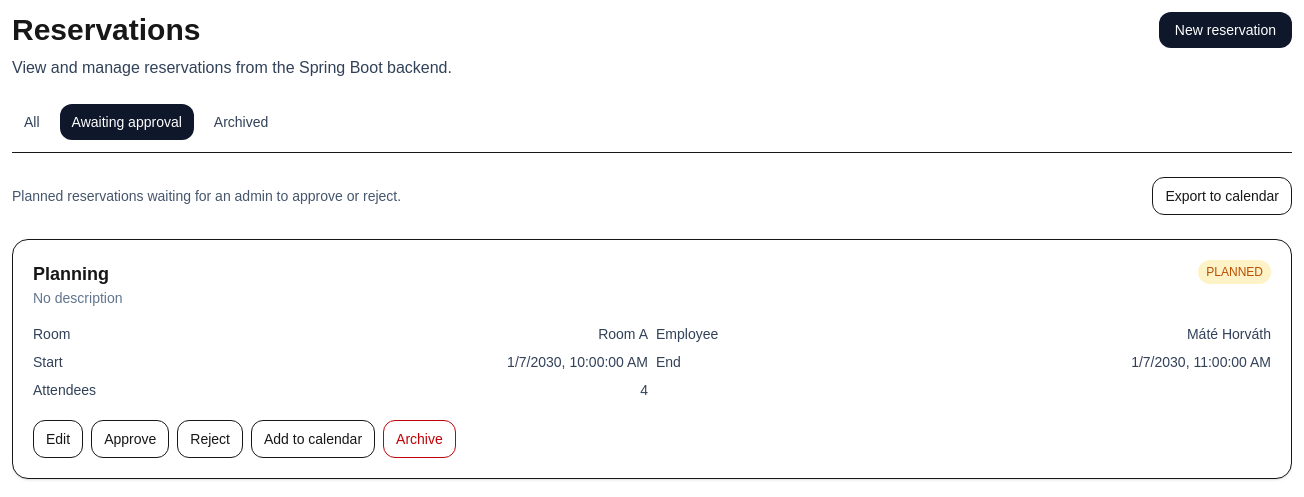
Test case: ReservationsPage › lets an admin approve a reservation from the approval queue
Expected: the heading "Planning" is shown, [33,264,109,284]
Click the button "Approve" at (130, 439), box [91,420,169,458]
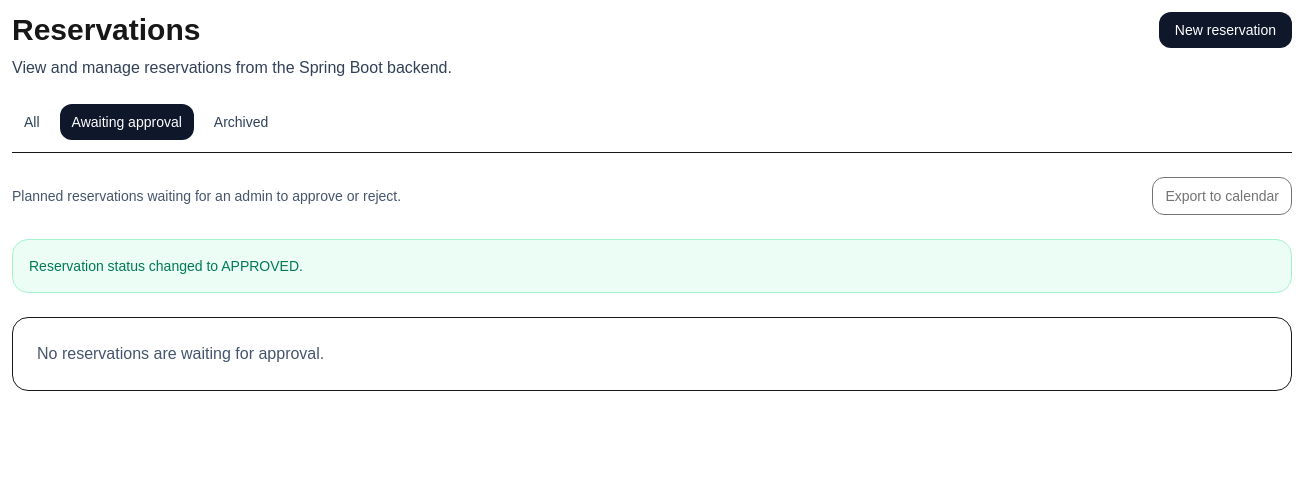
Now the text "Reservation status changed to APPROVED." is shown, box [29,258,303,274]
Now the text "No reservations are waiting for approval." is shown, box [37,345,324,362]
